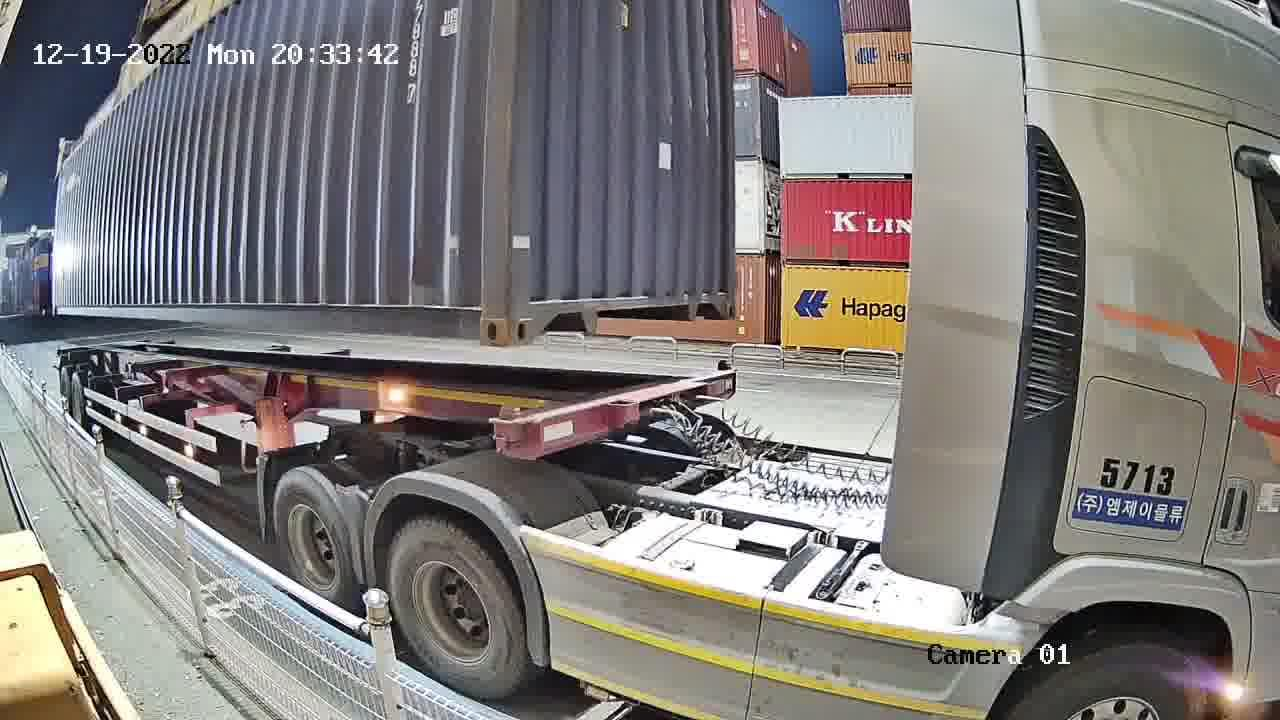Chassis: (496, 370, 735, 460)
Cone: (493, 407, 524, 460), (714, 355, 736, 376)
Hole_L: (510, 286, 557, 345)
Hole_R: (453, 286, 505, 347), (705, 280, 738, 323)
Tire: (387, 525, 525, 699), (276, 474, 353, 604)
